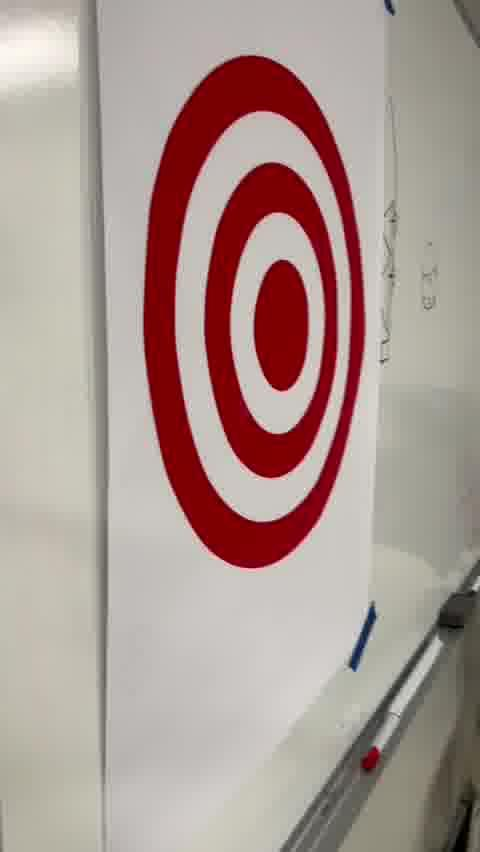target_red: (143, 53, 366, 568)
